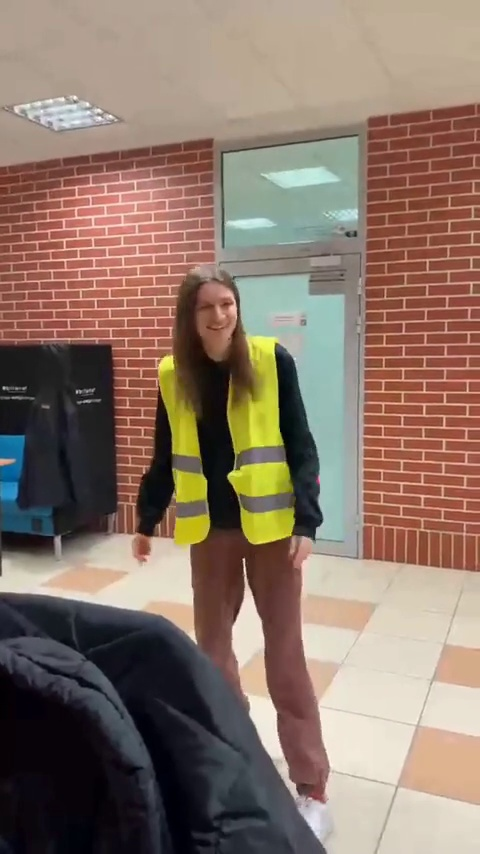vest: (150, 268, 351, 813)
